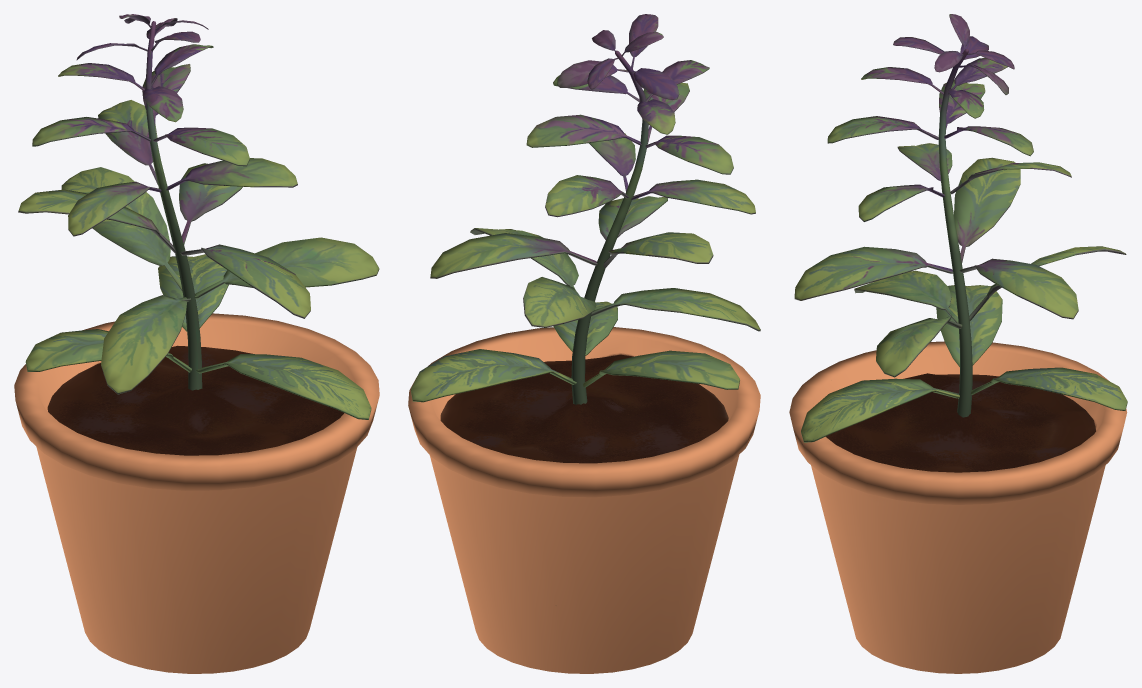
The model's file is SAGE.fbx.
3 views of the same model, side by side, from view 1: azimuth 30°, elevation 25°; view 2: azimuth 150°, elevation 25°; view 3: azimuth 270°, elevation 25° (orthographic). The views are drawn at different scales.
Visible parts, largest first — view 1: FlowerPot.002; view 2: FlowerPot.002; view 3: FlowerPot.002.
Part boxes in pixels (x1,y1,x2,y2): FlowerPot.002: (14,14,379,673); FlowerPot.002: (408,14,760,673); FlowerPot.002: (789,14,1127,673).
Size of the model in its own units: 214 by 400 by 210.
1 material, 1 textured.
